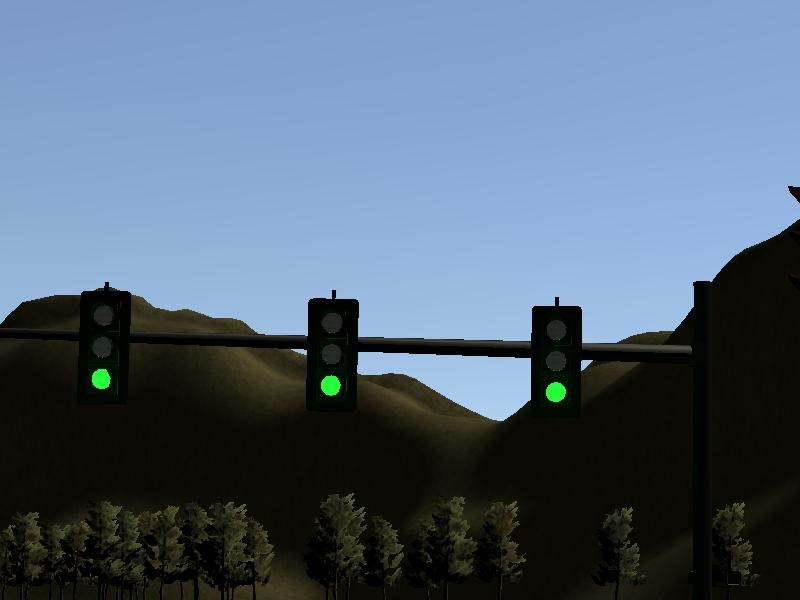GREEN: (308, 297, 357, 408), (532, 306, 581, 417), (80, 290, 129, 401)
